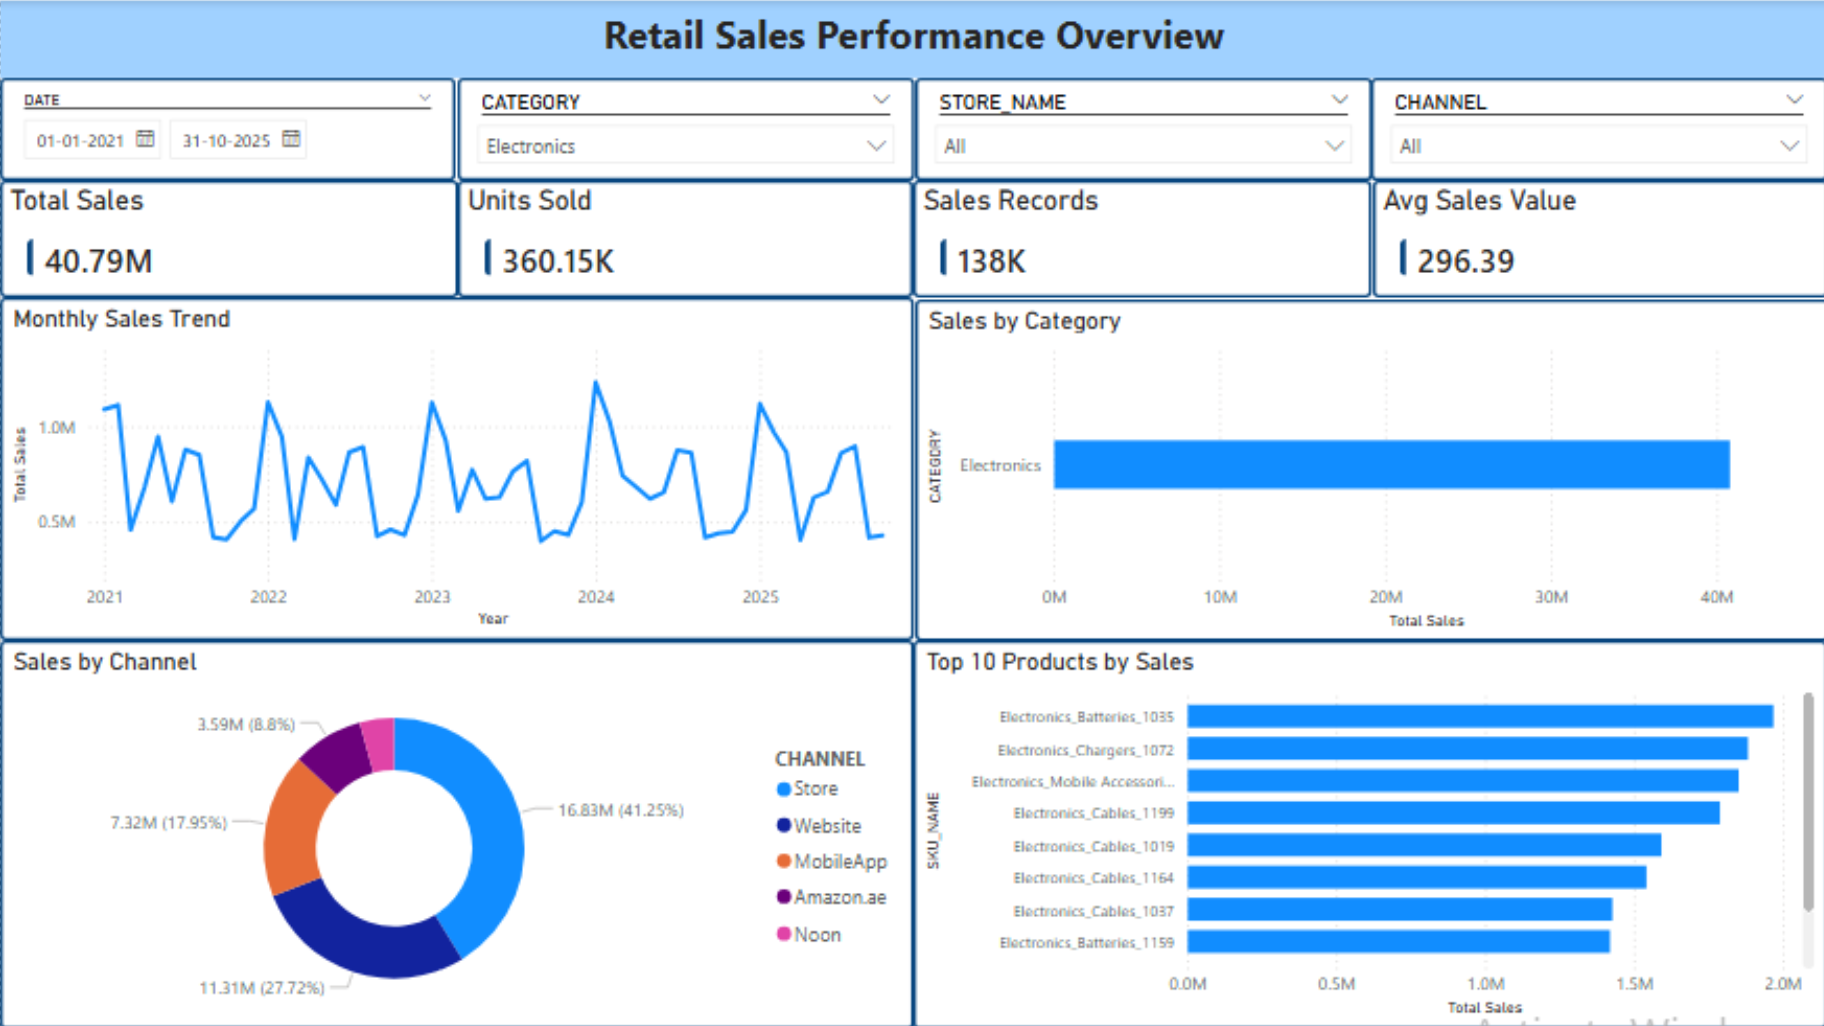

The dashboard page shown, as its layout file describes it:
{"tool":"powerbi","page":{"name":"Sales Overview","canvas":[1280,720],"ordinal":0},"visuals":[{"type":"textbox","box":[0,0,1280,54.1],"z":0},{"type":"slicer","fields":{"Values":["SKUS.CATEGORY"]},"box":[320,54.4,320,71.8],"z":1000},{"type":"slicer","fields":{"Values":["STORES.STORE_NAME"]},"box":[641,54.1,320.5,71.7],"z":2000},{"type":"slicer","fields":{"Values":["SALES.CHANNEL"]},"box":[960,54.4,320,71.8],"z":3000},{"type":"cardVisual","title":"Total Sales","fields":{"Data":["SALES.Total Sales"]},"box":[0,125.6,320.9,82],"z":4000},{"type":"cardVisual","title":"Units Sold","fields":{"Data":["SALES.Units Sold"]},"box":[320.9,125.6,319.1,82],"z":5000},{"type":"cardVisual","title":"Sales Records","fields":{"Data":["SALES.Sales Records"]},"box":[640,125.6,320.9,82],"z":6000},{"type":"cardVisual","title":"Avg Sales Value","fields":{"Data":["SALES.Average Sales Value"]},"box":[960.9,125.6,319.1,82],"z":7000},{"type":"slicer","fields":{"Values":["SALES.DATE"]},"box":[0,54.1,319,71.7],"z":8000},{"type":"lineChart","title":"Monthly Sales Trend","fields":{"Category":["SALES.DATE.Variation.Date Hierarchy.Year","SALES.DATE.Variation.Date Hierarchy.Month"],"Y":["SALES.Total Sales"]},"box":[0,208.3,640,240],"z":9000},{"type":"barChart","title":"Sales by Category","fields":{"Category":["SKUS.CATEGORY"],"Y":["SALES.Total Sales"]},"box":[640.3,209,640.3,238.8],"z":10000},{"type":"donutChart","title":"Sales by Channel","fields":{"Category":["SALES.CHANNEL"],"Y":["SALES.Total Sales"]},"box":[0,448.3,640,271.7],"z":11000},{"type":"barChart","title":"Top 10 Products by Sales","fields":{"Category":["SKUS.SKU_NAME"],"Y":["SALES.Total Sales"]},"box":[640,448.3,640,271.7],"z":12000}]}

Visuals, with their boxes in screenshot pixels (x1, y1, x2, y2), scaled from the page's 1280x720 canvas onto the 1824x1026 screenshot:
textbox: (x1=0, y1=0, x2=1823, y2=77)
slicer - SKUS.CATEGORY: (x1=456, y1=78, x2=912, y2=180)
slicer - STORES.STORE_NAME: (x1=913, y1=77, x2=1370, y2=179)
slicer - SALES.CHANNEL: (x1=1368, y1=78, x2=1823, y2=180)
"Total Sales" cardVisual: (x1=0, y1=179, x2=457, y2=296)
"Units Sold" cardVisual: (x1=457, y1=179, x2=912, y2=296)
"Sales Records" cardVisual: (x1=912, y1=179, x2=1369, y2=296)
"Avg Sales Value" cardVisual: (x1=1369, y1=179, x2=1823, y2=296)
slicer - SALES.DATE: (x1=0, y1=77, x2=455, y2=179)
"Monthly Sales Trend" lineChart: (x1=0, y1=297, x2=912, y2=639)
"Sales by Category" barChart: (x1=912, y1=298, x2=1823, y2=638)
"Sales by Channel" donutChart: (x1=0, y1=639, x2=912, y2=1025)
"Top 10 Products by Sales" barChart: (x1=912, y1=639, x2=1823, y2=1025)
